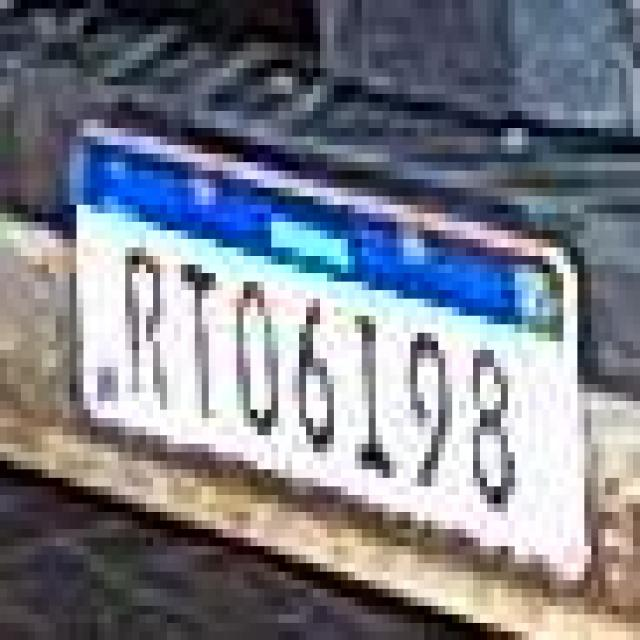8: (465, 319, 521, 520)
9: (408, 308, 461, 506)
I: (350, 298, 399, 494)
O: (238, 275, 284, 462), (297, 282, 344, 464)
R: (108, 234, 168, 436)
T: (176, 256, 227, 433)
